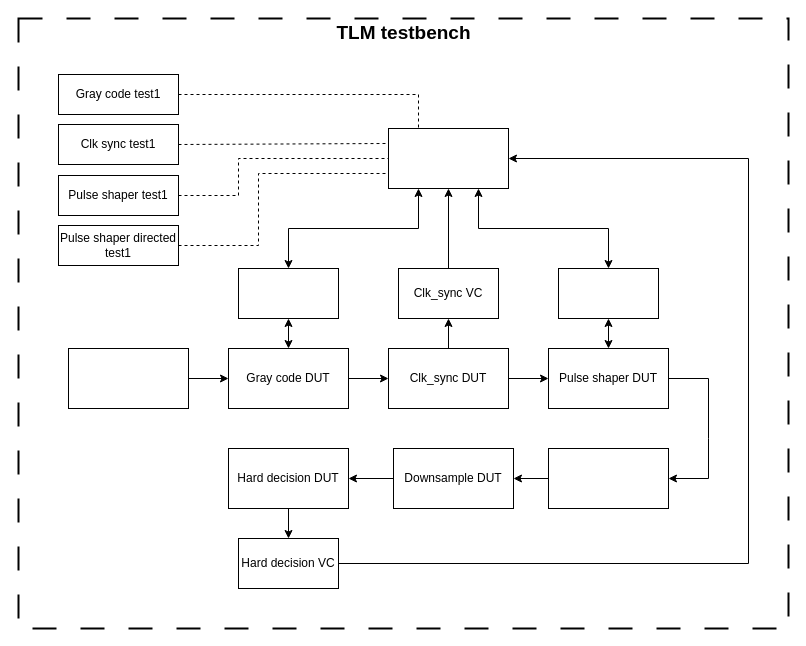
Image size: 806x646. Some labels were removed from this diagram. The shapes that lost their labels are listed below. From the top down, each one's box as (x1, y1, x2, y2) in pixels, then its label:
(388, 128, 508, 188): TestCtrl
(238, 268, 338, 318): Gray code VC
(558, 268, 658, 318): Pulse shaper VC
(68, 348, 188, 408): PBRS DUT
(548, 448, 668, 508): Match filter DUT
